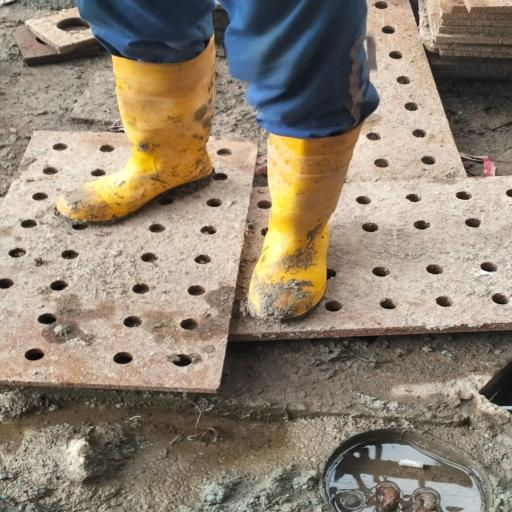safety_shoe: (54, 55, 221, 224), (247, 127, 365, 314)
